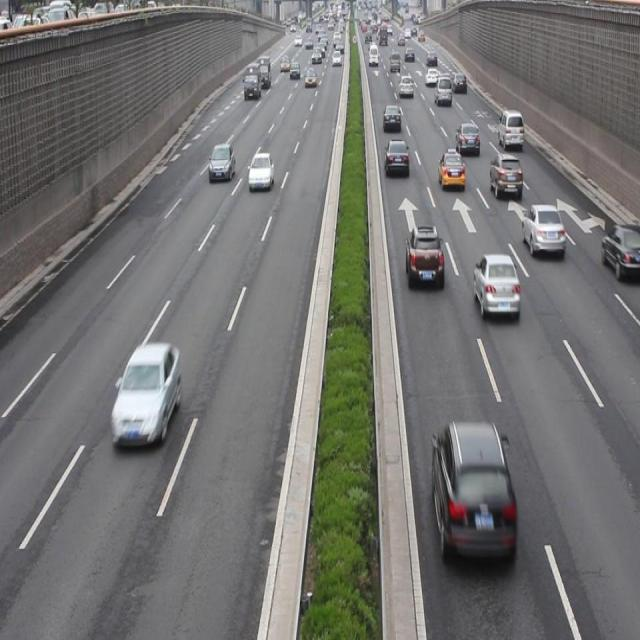car: (111, 342, 181, 446), (472, 254, 518, 315), (405, 224, 443, 287), (600, 222, 640, 281), (520, 201, 562, 256), (489, 152, 522, 198), (437, 149, 464, 190), (247, 152, 274, 190), (384, 137, 409, 178), (209, 143, 235, 179), (455, 121, 480, 156), (382, 102, 402, 134)
truck: (430, 420, 514, 562), (497, 108, 523, 149)
